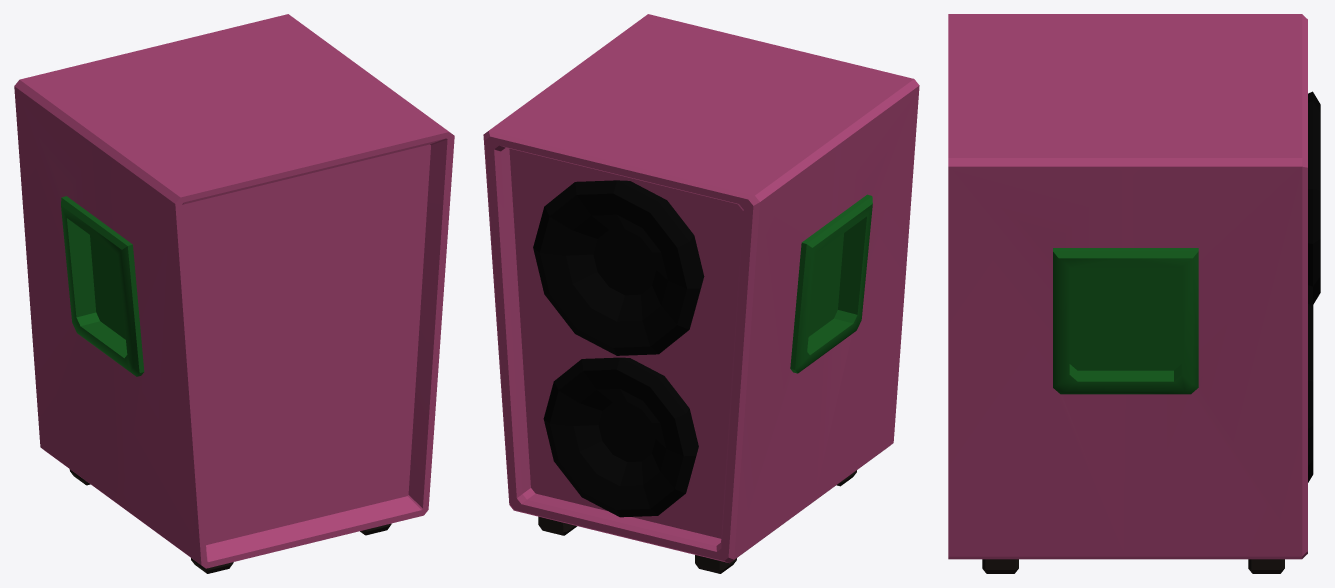
The model's file is Music column-2.FBX.
3 views of the same model, side by side, from view 1: azimuth 30°, elevation 25°; view 2: azimuth 150°, elevation 25°; view 3: azimuth 270°, elevation 25° (orthographic). The views are drawn at different scales.
Parts seen in each view (by area): view 1: Music column-2; view 2: Music column-2; view 3: Music column-2.
Boxes of the visible parts, x1=… form: Music column-2: x1=14, y1=14, x2=454, y2=573; Music column-2: x1=483, y1=14, x2=919, y2=573; Music column-2: x1=948, y1=14, x2=1320, y2=573.
Size of the model in its own units: 793 by 815 by 1061.
